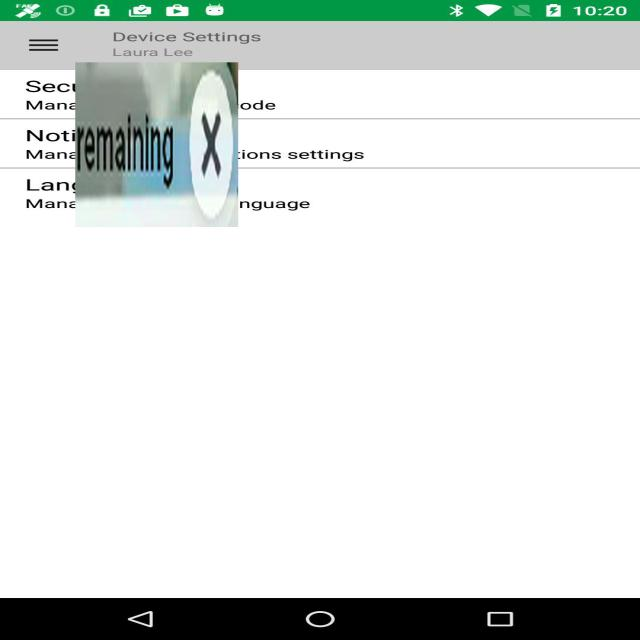misdirection: (75, 62, 238, 227)
